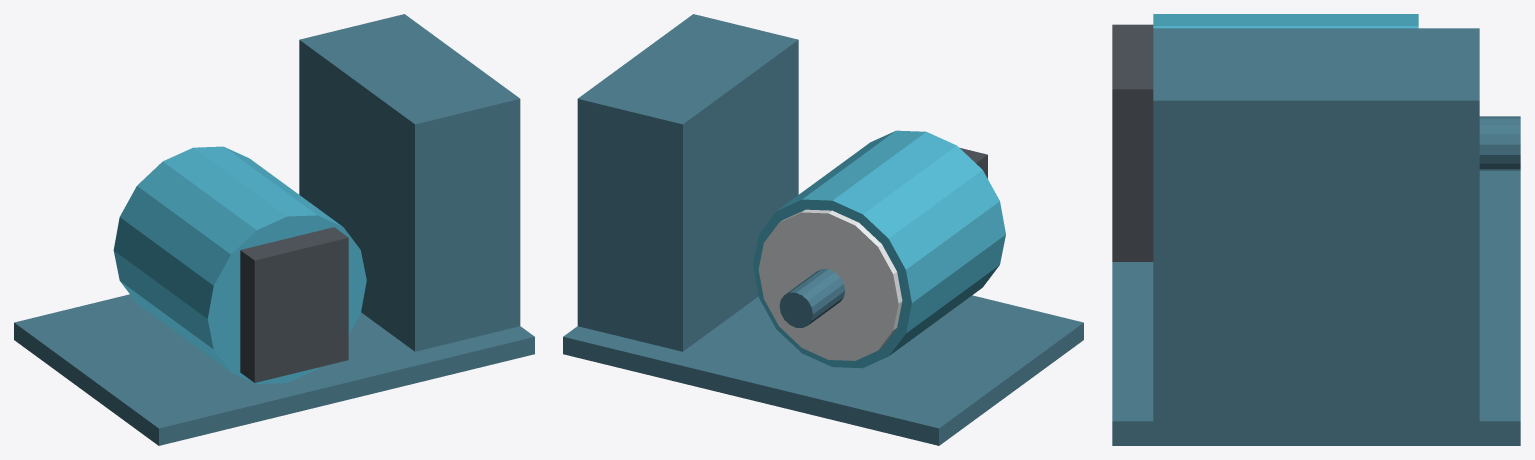
Rendered from concept-drive-subassembly.glb.
3 views of the same model, side by side, from view 1: azimuth 30°, elevation 25°; view 2: azimuth 150°, elevation 25°; view 3: azimuth 270°, elevation 25° (orthographic). The views are drawn at different scales.
Parts seen in each view (by area): view 1: SideFlange, MountingBracket, ServoMotor, EncoderCover; view 2: SideFlange, MountingBracket, ServoMotor, Gearbox, OutputShaft; view 3: SideFlange, MountingBracket, EncoderCover, ServoMotor, OutputShaft.
Boxes of the visible parts, x1,y1,x2,y2 form: SideFlange: (299,14,520,351); MountingBracket: (14,294,534,445); ServoMotor: (113,146,366,383); EncoderCover: (240,227,348,382); SideFlange: (577,14,798,351); MountingBracket: (563,295,1083,445); ServoMotor: (753,130,1005,368); Gearbox: (758,209,902,360); OutputShaft: (779,269,845,327); SideFlange: (1153,28,1479,445); MountingBracket: (1112,170,1520,445); EncoderCover: (1112,24,1153,261); ServoMotor: (1153,14,1418,28); OutputShaft: (1479,116,1520,170).
Size of the model in its own units: 0.45 by 0.28 by 0.3.
